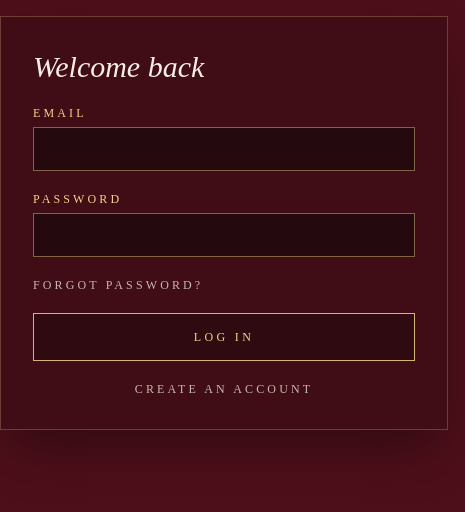
Test: LoginForm › re-enables the form and shows an error when the request throws
Type "a@b.co" into the field labelled "Email" at (224, 149), box [33,127,415,171]
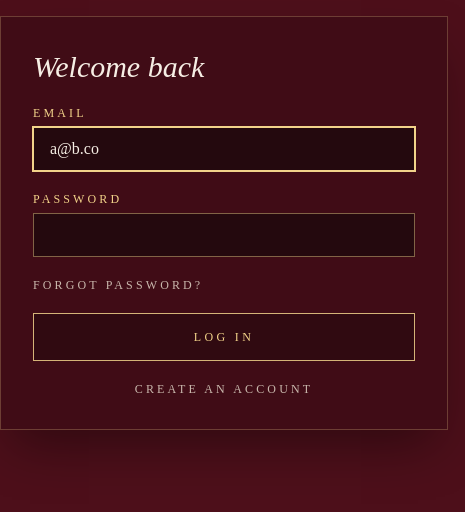
Type "hunter22" into the password field labelled "Password" at (224, 235), box [33,213,415,257]
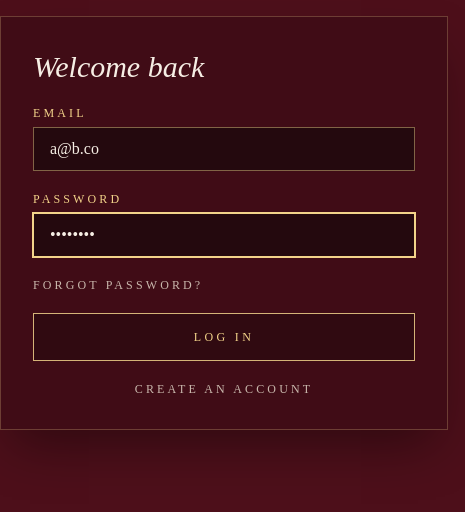
Click the button "Log in" at (224, 337), box [33,313,415,361]
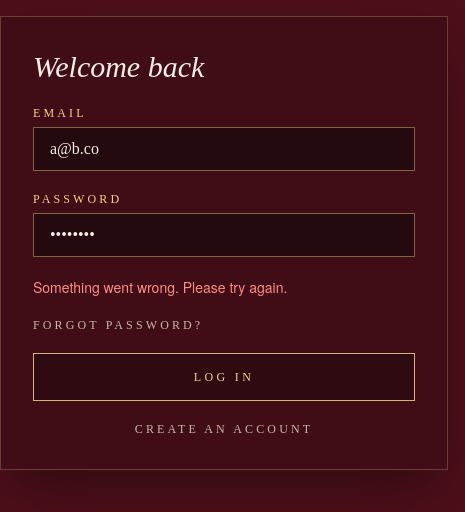
Check: the button "Log in" is enabled, box [33,353,415,401]
Check: the message shows "Something went wrong", box [33,277,287,297]
